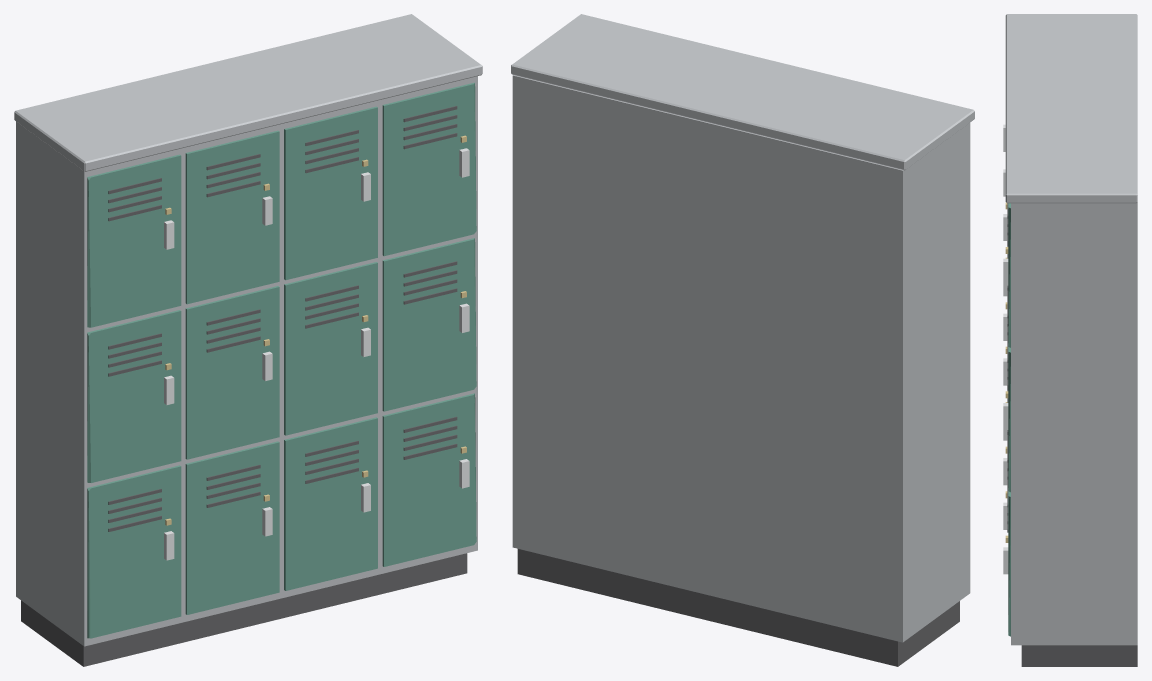
The model's file is lockers.glb.
3 renders of one model, left to right at view 1: azimuth 30°, elevation 25°; view 2: azimuth 150°, elevation 25°; view 3: azimuth 270°, elevation 25°, orthographic. The views are drawn at different scales.
Visible parts, largest first — view 1: lockers_vinyl_g, lockers_steel, lockers_dark, lockers_chrome; view 2: lockers_steel, lockers_dark; view 3: lockers_steel, lockers_dark, lockers_chrome, lockers_vinyl_g.
Boxes of the visible parts, x1,y1,x2,y2 form: lockers_vinyl_g: (87, 82, 476, 638); lockers_steel: (14, 14, 482, 646); lockers_dark: (21, 106, 467, 666); lockers_chrome: (164, 148, 469, 560); lockers_steel: (511, 14, 974, 642); lockers_dark: (517, 549, 959, 666); lockers_steel: (1005, 14, 1137, 645); lockers_dark: (1007, 203, 1137, 666); lockers_chrome: (1003, 124, 1008, 574); lockers_vinyl_g: (1008, 203, 1010, 636).
Size of the model in its own units: 1.62 by 1.99 by 0.51.
